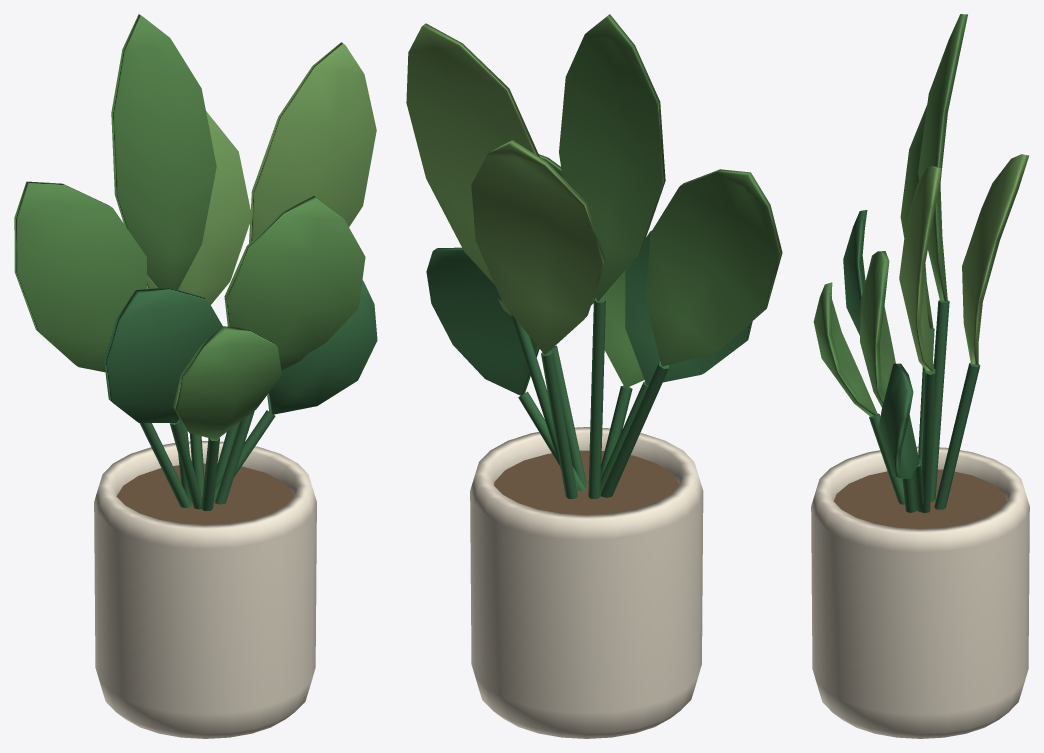
Rendered from Reception_Tall_Broadleaf_Plant.glb.
The picture shows the model from 3 angles, left to right: view 1: azimuth 30°, elevation 25°; view 2: azimuth 150°, elevation 25°; view 3: azimuth 270°, elevation 25°; orthographic projection. The views are drawn at different scales.
Parts seen in each view (by area): view 1: Reception_Tall_Broadleaf_Plant__Graphics, Reception_Tall_Broadleaf_Plant__Visual; view 2: Reception_Tall_Broadleaf_Plant__Graphics, Reception_Tall_Broadleaf_Plant__Visual; view 3: Reception_Tall_Broadleaf_Plant__Visual, Reception_Tall_Broadleaf_Plant__Graphics.
Part boxes in pixels (<box>): Reception_Tall_Broadleaf_Plant__Graphics: <box>14,14,377,524</box>; Reception_Tall_Broadleaf_Plant__Visual: <box>94,441,316,738</box>; Reception_Tall_Broadleaf_Plant__Graphics: <box>406,14,782,514</box>; Reception_Tall_Broadleaf_Plant__Visual: <box>470,427,703,738</box>; Reception_Tall_Broadleaf_Plant__Visual: <box>811,446,1029,738</box>; Reception_Tall_Broadleaf_Plant__Graphics: <box>813,14,1028,528</box>.
Bounding box in the file's own units: 0.9245 × 1.68 × 0.5.
Materials: 2 (2 with a texture image).
